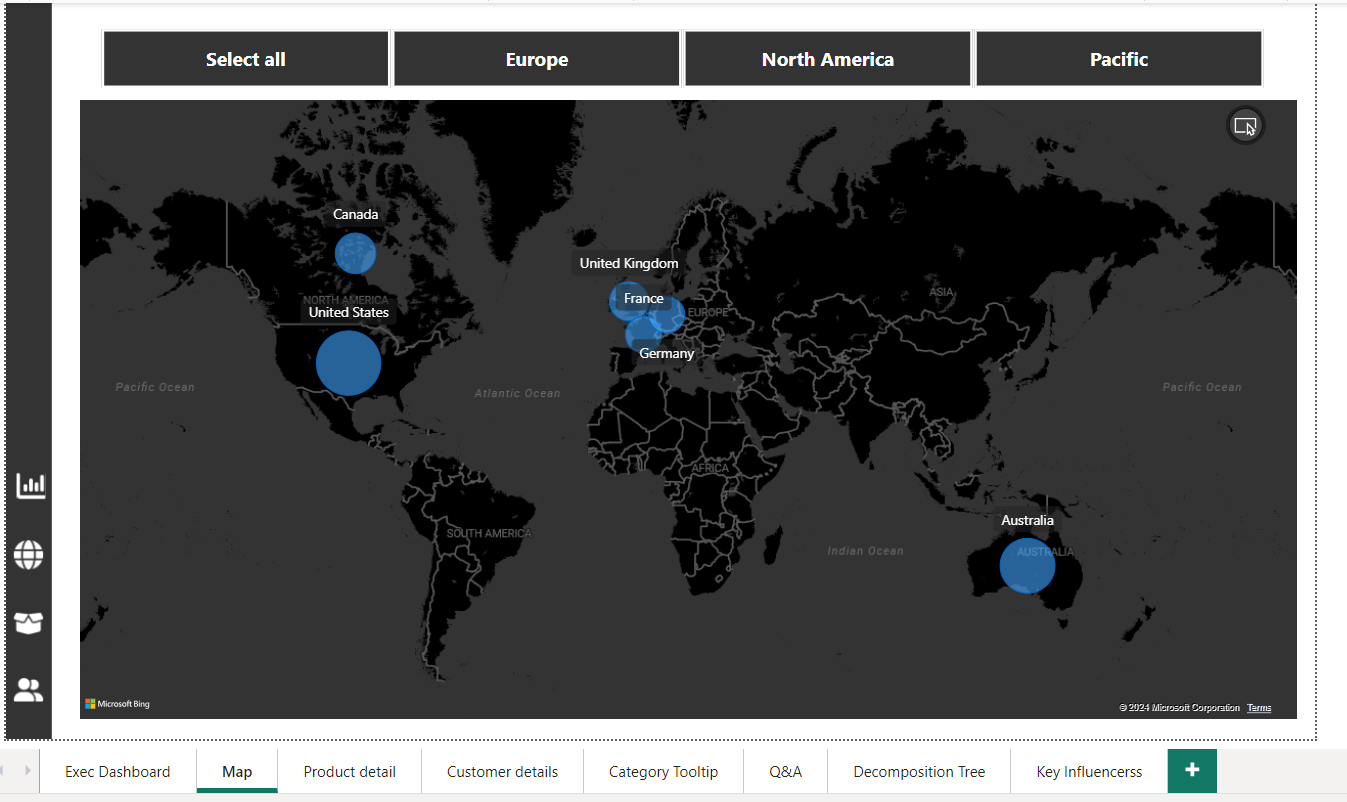

What the dashboard file says about the page in this screenshot:
{"tool":"powerbi","page":{"name":"Map","canvas":[1280,720],"ordinal":1},"visuals":[{"type":"shape","box":[0,0,45,720],"z":0},{"type":"actionButton","box":[6.1,438.8,36.7,67.2],"z":0,"group":"g1"},{"type":"slicer","fields":{"Values":["Territory Lookup.Continent"]},"box":[67.2,18.3,1187,72.1],"z":1000},{"type":"actionButton","box":[3.7,506,36.7,67.2],"z":1000,"group":"g1"},{"type":"actionButton","box":[3.7,573.3,36.7,67.2],"z":2000,"group":"g1"},{"type":"actionButton","box":[3.7,638.1,36.7,67.2],"z":2000},{"type":"group","id":"g1","title":"Navigation Buttons","box":[3.7,438.8,39.1,201.7],"z":3000},{"type":"map","fields":{"Size":["Meassure Table.Total orders"],"Category":["Territory Lookup.Country"]},"box":[67.2,90.5,1200.4,614.9],"z":4000}]}

Visuals, with their boxes on the page's 1280x720 design canvas (x1, y1, x2, y2). These are canvas units, not pixel positions in the 1347x802 screenshot, which may show the page scaled, cropped or inside an application window:
shape: bbox(0, 0, 45, 720)
actionButton: bbox(6, 439, 43, 506)
slicer - Territory Lookup.Continent: bbox(67, 18, 1254, 90)
actionButton: bbox(4, 506, 40, 573)
actionButton: bbox(4, 573, 40, 640)
actionButton: bbox(4, 638, 40, 705)
"Navigation Buttons" group: bbox(4, 439, 43, 640)
map - Meassure Table.Total orders x Territory Lookup.Country: bbox(67, 90, 1268, 705)
